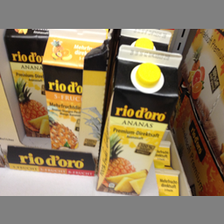juice: (94, 44, 183, 193), (43, 29, 104, 151)
